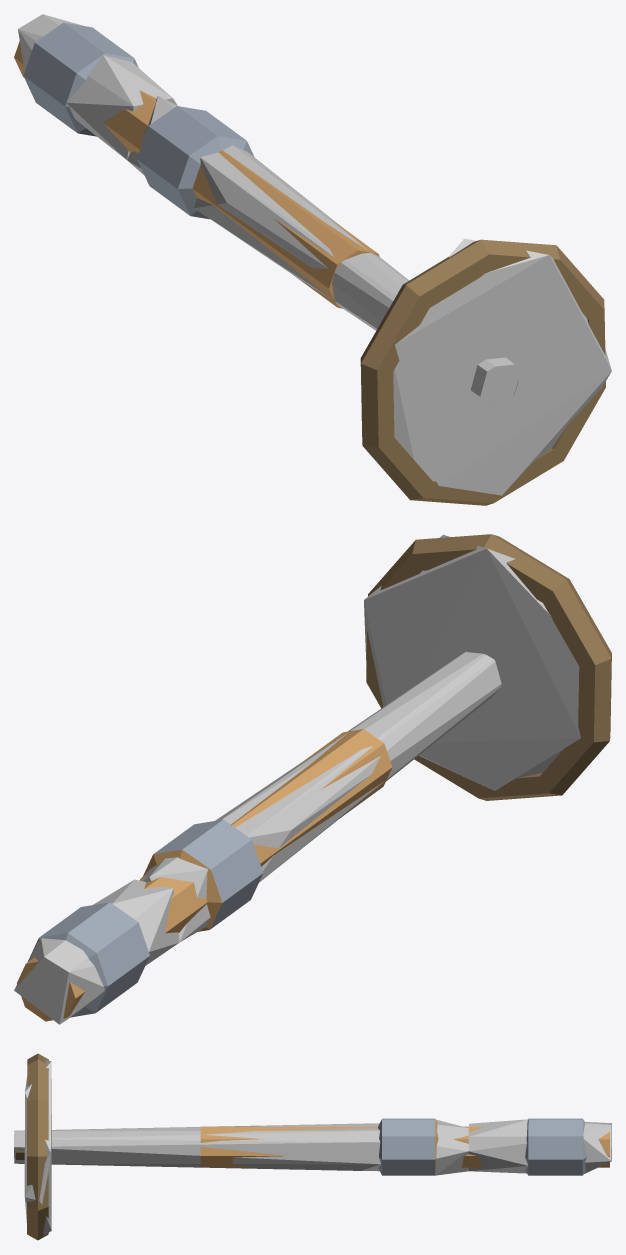
Rendered from SM_Prop_Telescope_01_Wheel_01.fbx.
The picture shows the model from 3 angles, top to bottom: view 1: azimuth 30°, elevation 25°; view 2: azimuth 150°, elevation 25°; view 3: azimuth 270°, elevation 25°; orthographic projection. The views are drawn at different scales.
Parts seen in each view (by area): view 1: SM_Prop_Telescope_01_Wheel_01_ConvexHulls, SM_Prop_Telescope_01_Wheel_01; view 2: SM_Prop_Telescope_01_Wheel_01_ConvexHulls, SM_Prop_Telescope_01_Wheel_01; view 3: SM_Prop_Telescope_01_Wheel_01_ConvexHulls, SM_Prop_Telescope_01_Wheel_01.
Boxes of the visible parts, <box> form: SM_Prop_Telescope_01_Wheel_01_ConvexHulls: <box>18,14,611,495</box>; SM_Prop_Telescope_01_Wheel_01: <box>14,22,605,505</box>; SM_Prop_Telescope_01_Wheel_01_ConvexHulls: <box>14,534,580,1024</box>; SM_Prop_Telescope_01_Wheel_01: <box>17,534,611,1021</box>; SM_Prop_Telescope_01_Wheel_01_ConvexHulls: <box>14,1060,611,1235</box>; SM_Prop_Telescope_01_Wheel_01: <box>16,1053,609,1240</box>.
Size of the model in its own units: 39.8 by 130 by 41.58.
2 materials, 1 textured.
